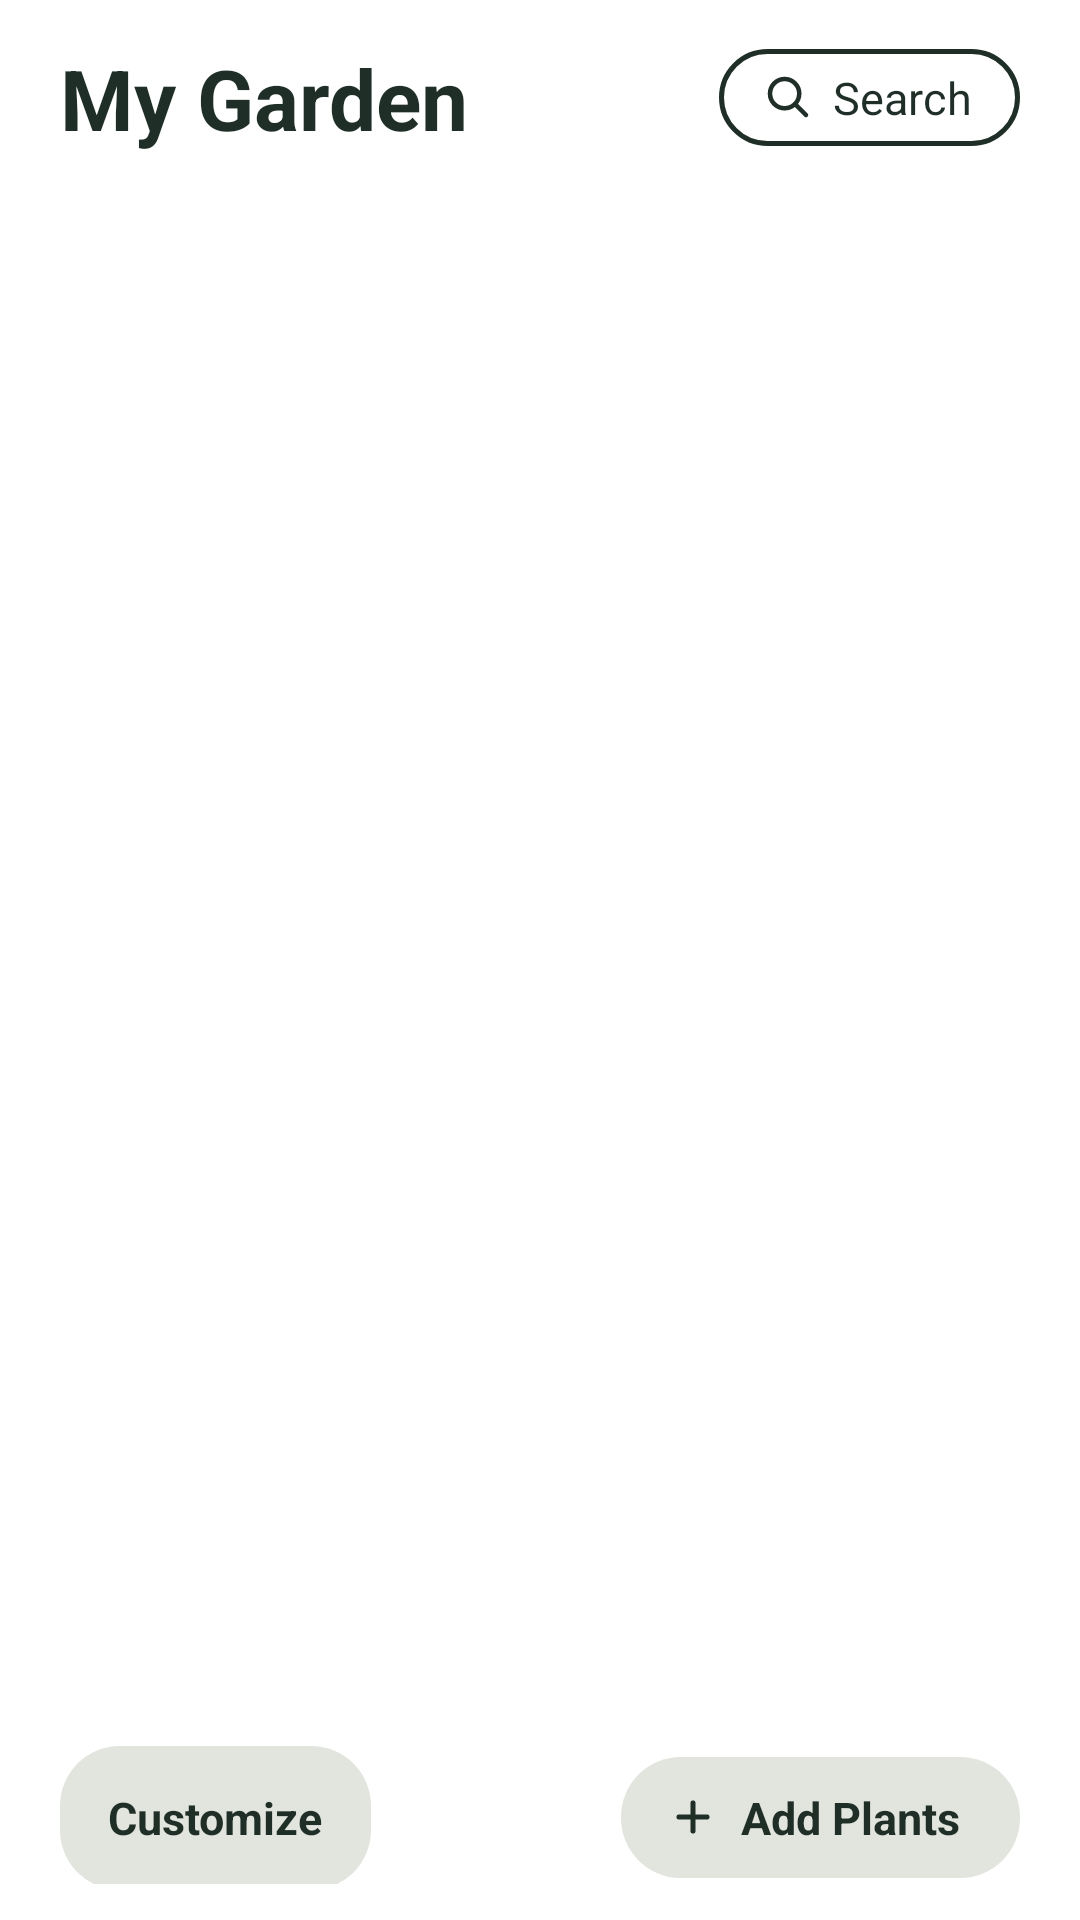

Point at icon controls on the screen. Image size 1080x1920, points as (x,y).
Add plant icon: (693,1817)
